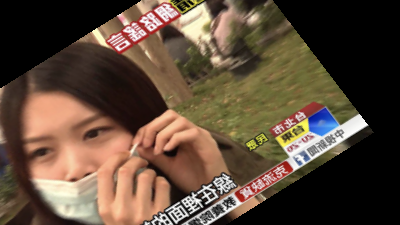mask_weared_incorrect: (1, 24, 177, 225)
